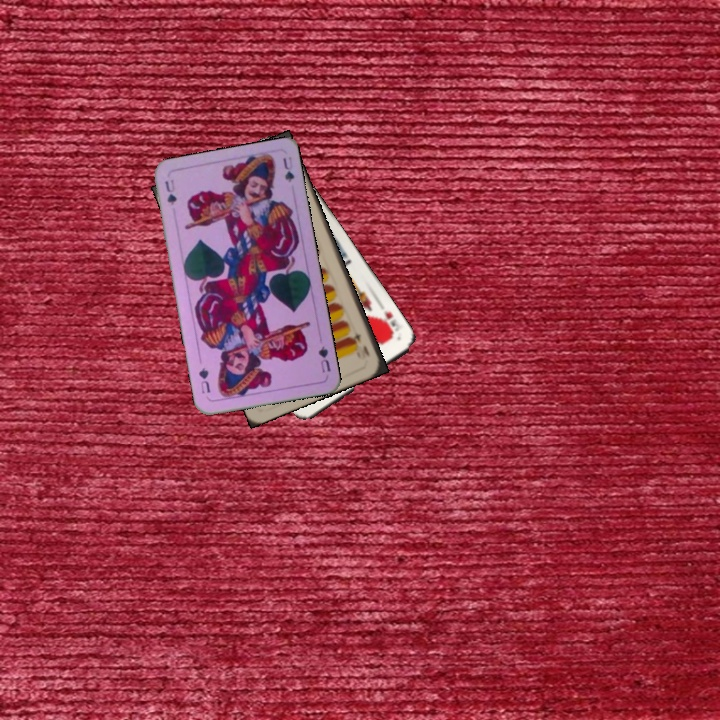E10: (347, 324, 373, 360)
GU: (314, 342, 333, 375), (161, 176, 179, 208)
HK: (376, 306, 405, 340)
